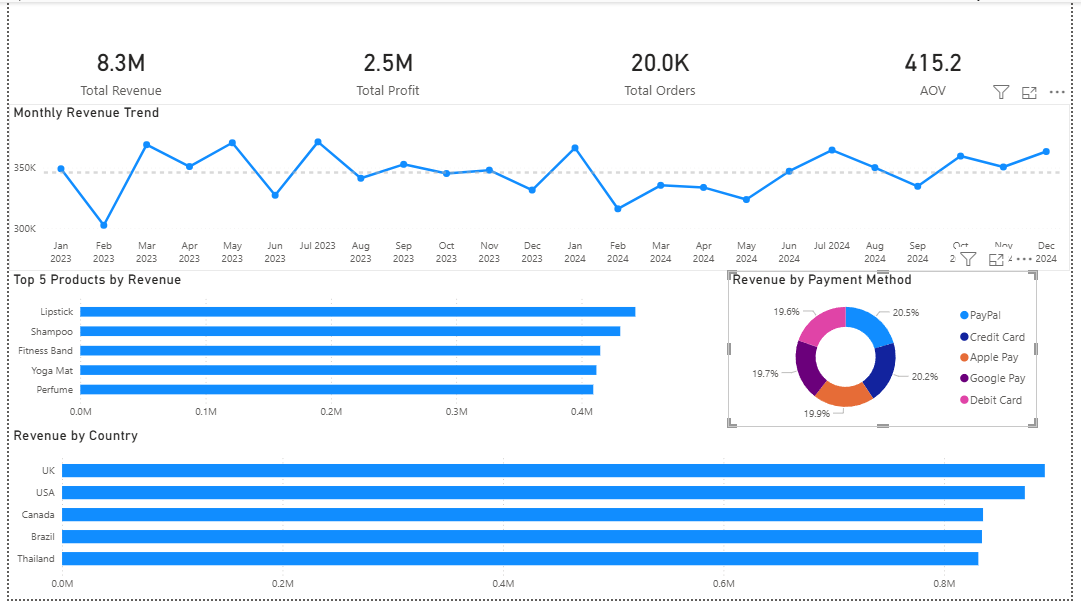

This screenshot's page, from the dashboard's own definition file:
{"tool":"powerbi","page":{"name":"Page 1","canvas":[1280,720],"ordinal":0},"visuals":[{"type":"card","fields":{"Values":["KPI_Measures.total revenve"]},"box":[9.6,0,250.9,164],"z":0},{"type":"card","fields":{"Values":["KPI_Measures.total profit"]},"box":[331.7,0,250.9,164],"z":1000},{"type":"card","fields":{"Values":["KPI_Measures.total_order"]},"box":[659.7,0,250.9,164],"z":2000},{"type":"card","fields":{"Values":["KPI_Measures.AOV"]},"box":[988.9,0,250.9,164],"z":3000},{"type":"lineChart","title":"Monthly Revenue Trend","fields":{"Category":["DimDate.YearMonth"],"Y":["KPI_Measures.Total_revenue"]},"box":[0,123,1279.6,201.4],"z":4000},{"type":"barChart","title":"Top 5 Products by Revenue","fields":{"Category":["products.product_name"],"Y":["KPI_Measures.Total_revenue"]},"box":[0,324.4,785.1,188.1],"z":5000},{"type":"barChart","title":"Revenue by Country","fields":{"Y":["KPI_Measures.Total_revenue"],"Category":["customers.customer_country"]},"box":[0,512.6,1279.6,207.4],"z":6000},{"type":"donutChart","title":"Revenue by Payment Method","fields":{"Category":["payments.payment_method"],"Y":["KPI_Measures.Total_revenue"]},"box":[867.1,324.4,372.7,188.1],"z":7000}]}

Visuals, with their boxes in screenshot pixels (x1, y1, x2, y2), scaled from the page's 1280x720 canvas onto the 1081x603 screenshot:
card - KPI_Measures.total revenve: box=[8, 0, 220, 137]
card - KPI_Measures.total profit: box=[280, 0, 492, 137]
card - KPI_Measures.total_order: box=[557, 0, 769, 137]
card - KPI_Measures.AOV: box=[835, 0, 1047, 137]
"Monthly Revenue Trend" lineChart: box=[0, 103, 1080, 272]
"Top 5 Products by Revenue" barChart: box=[0, 272, 663, 429]
"Revenue by Country" barChart: box=[0, 429, 1080, 602]
"Revenue by Payment Method" donutChart: box=[732, 272, 1047, 429]
